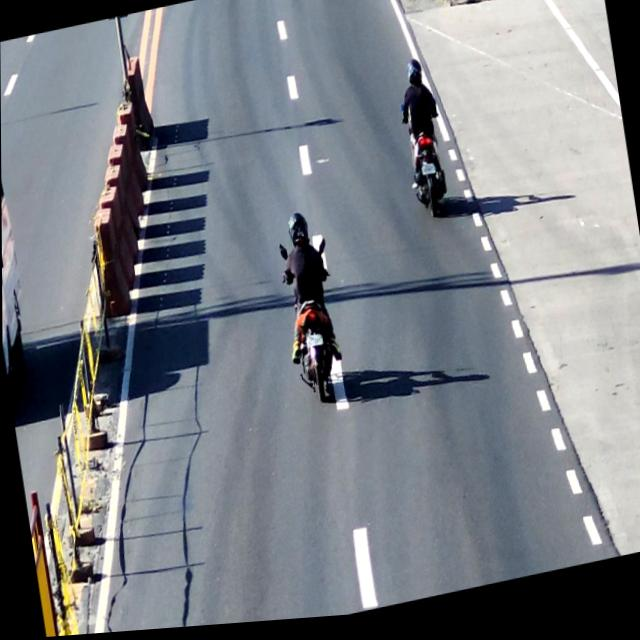License-Plate: (303, 332, 326, 361), (419, 163, 440, 188)
Motorcycle: (270, 210, 350, 419), (392, 58, 460, 242)
